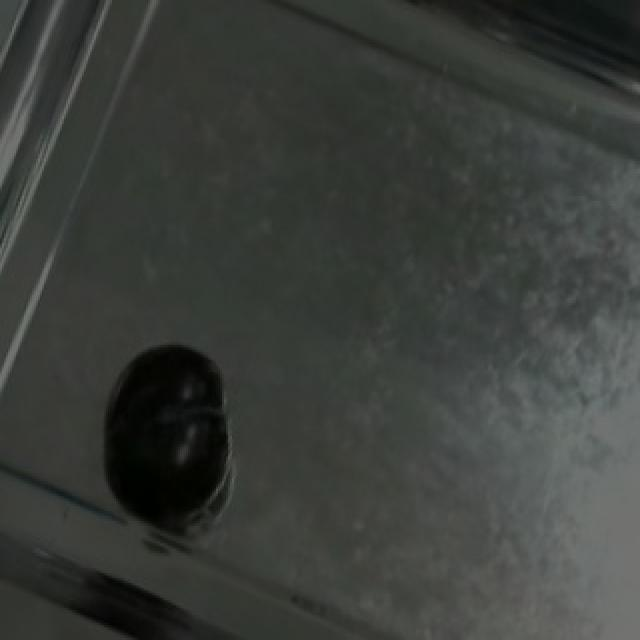Fruit: (86, 330, 240, 538)
